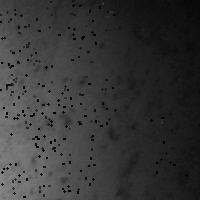pitted_surface: (14, 57, 77, 193), (101, 60, 147, 199), (3, 84, 63, 143), (35, 136, 93, 194), (0, 60, 51, 116), (71, 11, 128, 61), (150, 117, 200, 174), (57, 76, 114, 125), (61, 85, 114, 135), (0, 8, 38, 65), (46, 0, 106, 36), (0, 163, 31, 200)
